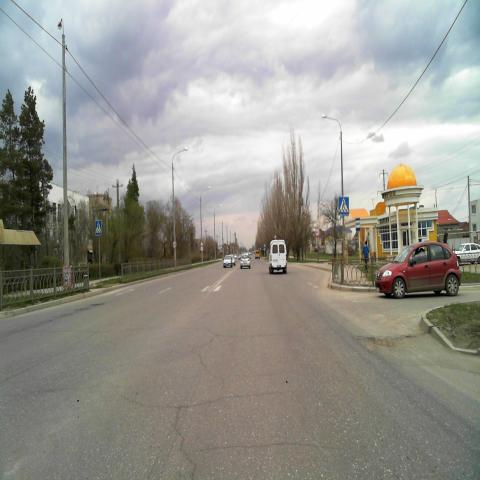3_24: (173, 240, 177, 248), (315, 228, 319, 236)
5_16: (356, 218, 360, 230)
5_19_1: (338, 196, 348, 214), (95, 219, 102, 236)
